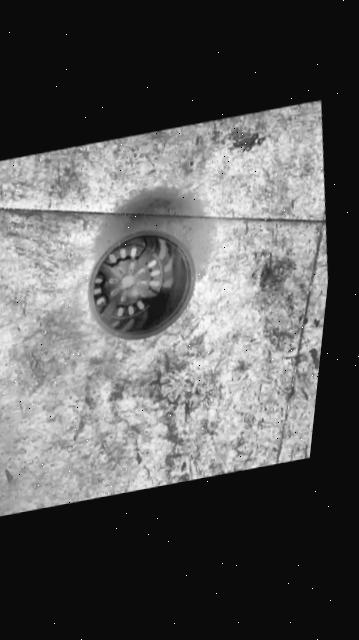pot: (74, 220, 206, 348)
